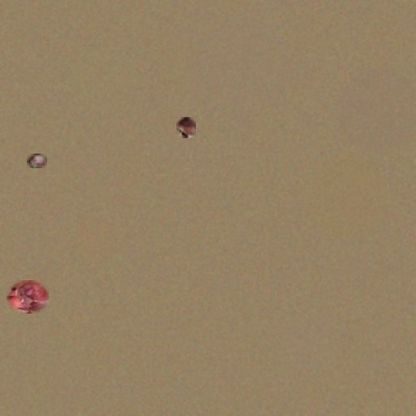rotten: (7, 280, 49, 314), (27, 154, 47, 168)
sprouted: (176, 117, 196, 138)
